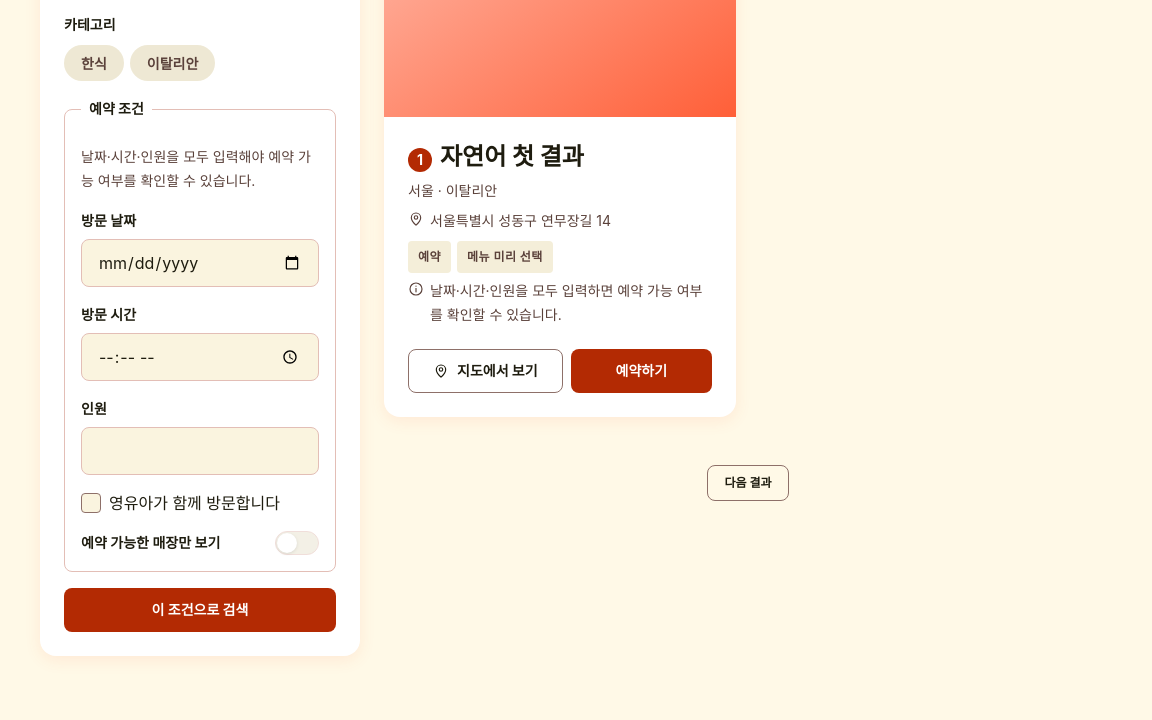
매장 찾기 결과 화면 › 기본 검색을 searchInput cursor 흐름으로 조회한다
(page scrolled)
Check: the link "자연어 첫 결과" is shown, box [440, 141, 584, 173]
Click the button "다음 결과": coordinates (748, 483) [708, 465, 788, 501]
(page scrolled)
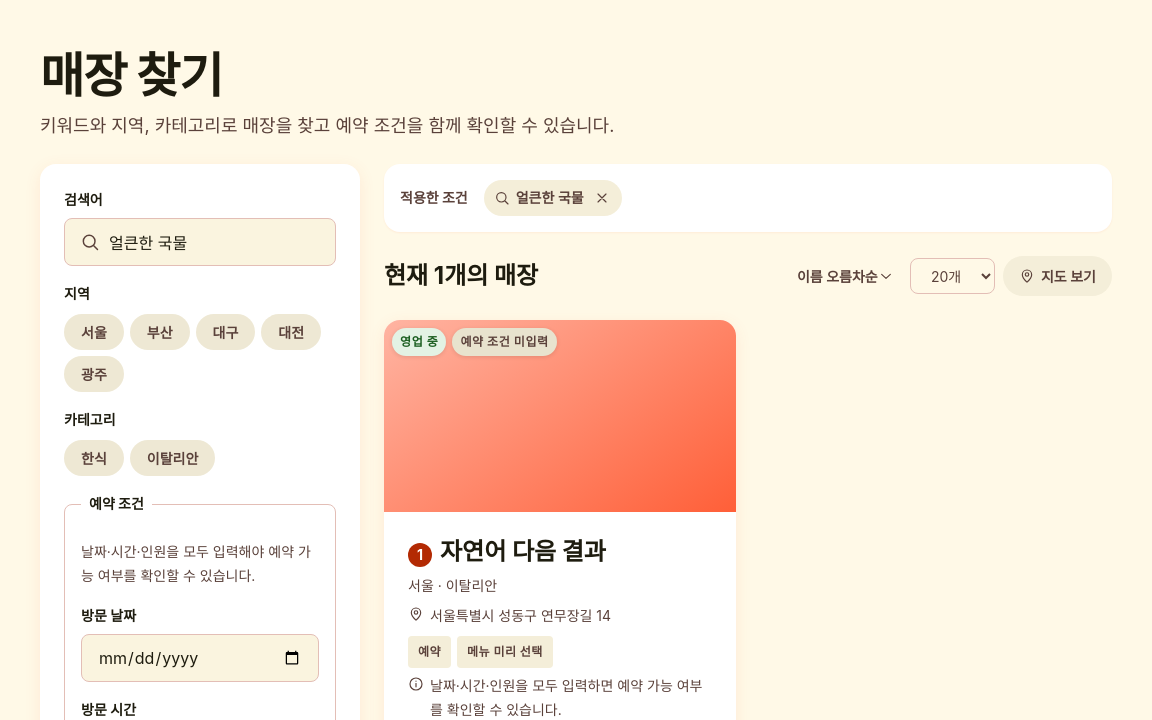
Check: the link "자연어 다음 결과" is shown, box [440, 536, 606, 568]
Replace the text in the field labelled "검색어" with "담백한 메뉴": coordinates (200, 242) [64, 218, 336, 266]
(page scrolled)
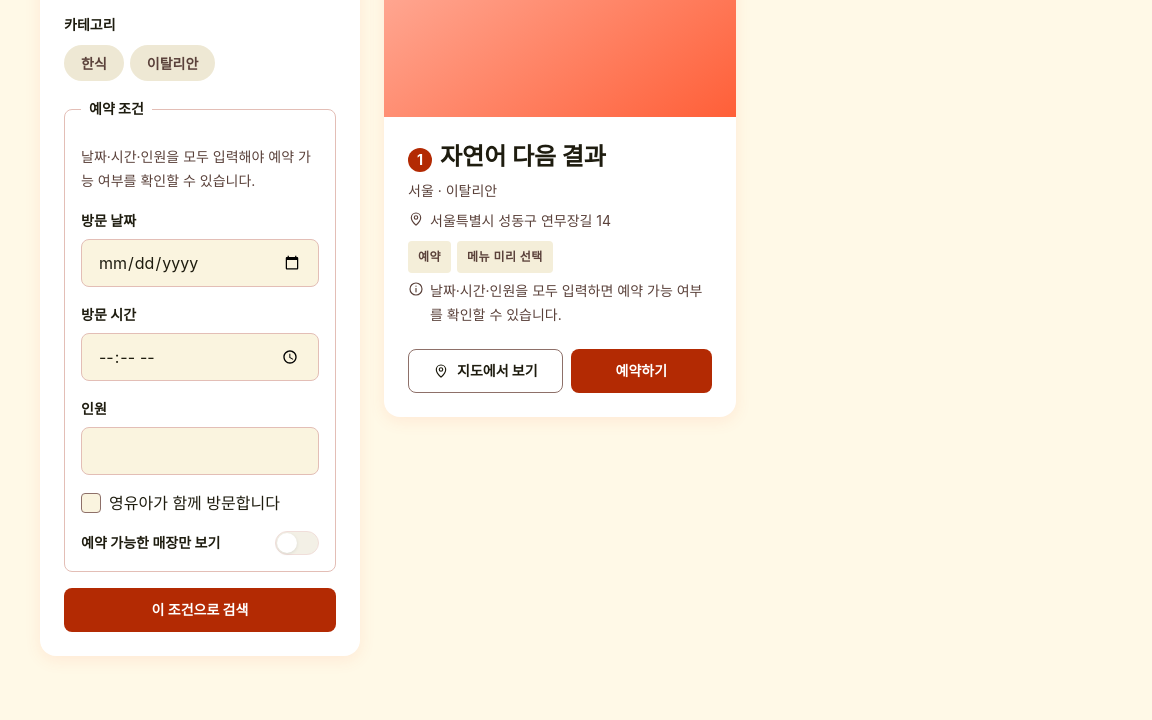
Click the button "이 조건으로 검색": coordinates (200, 610) [64, 588, 336, 632]
(page scrolled)
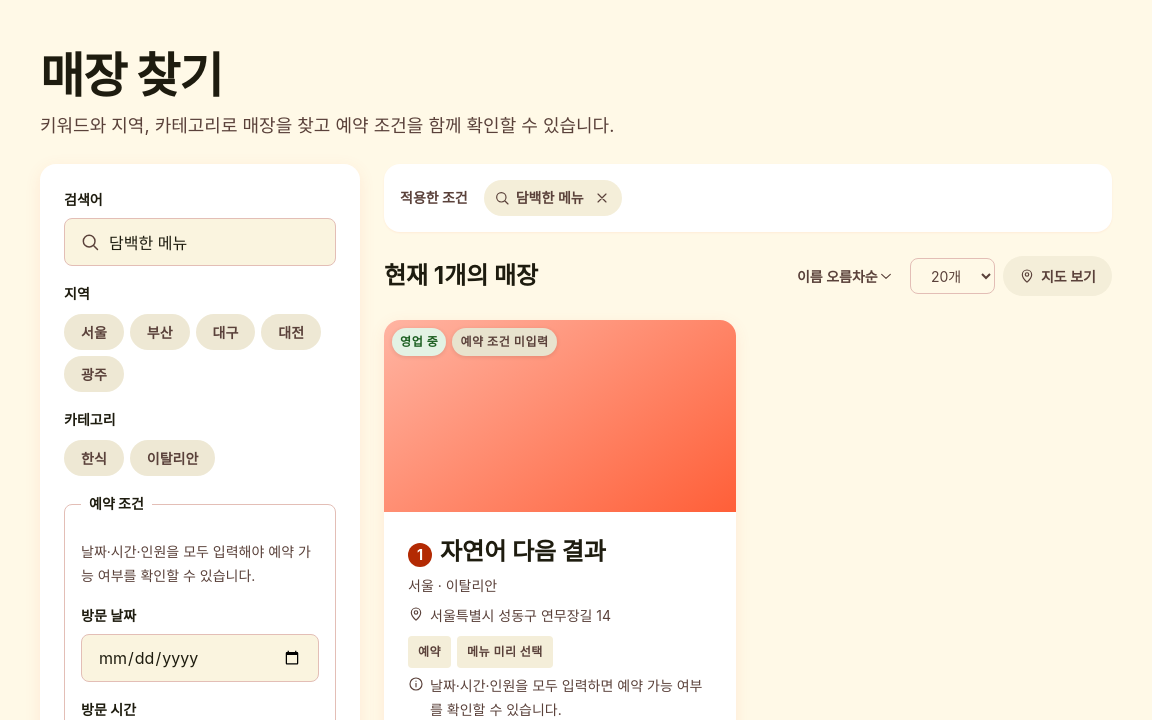
Check: the text "담백한 메뉴" is shown, box [516, 186, 584, 210]
